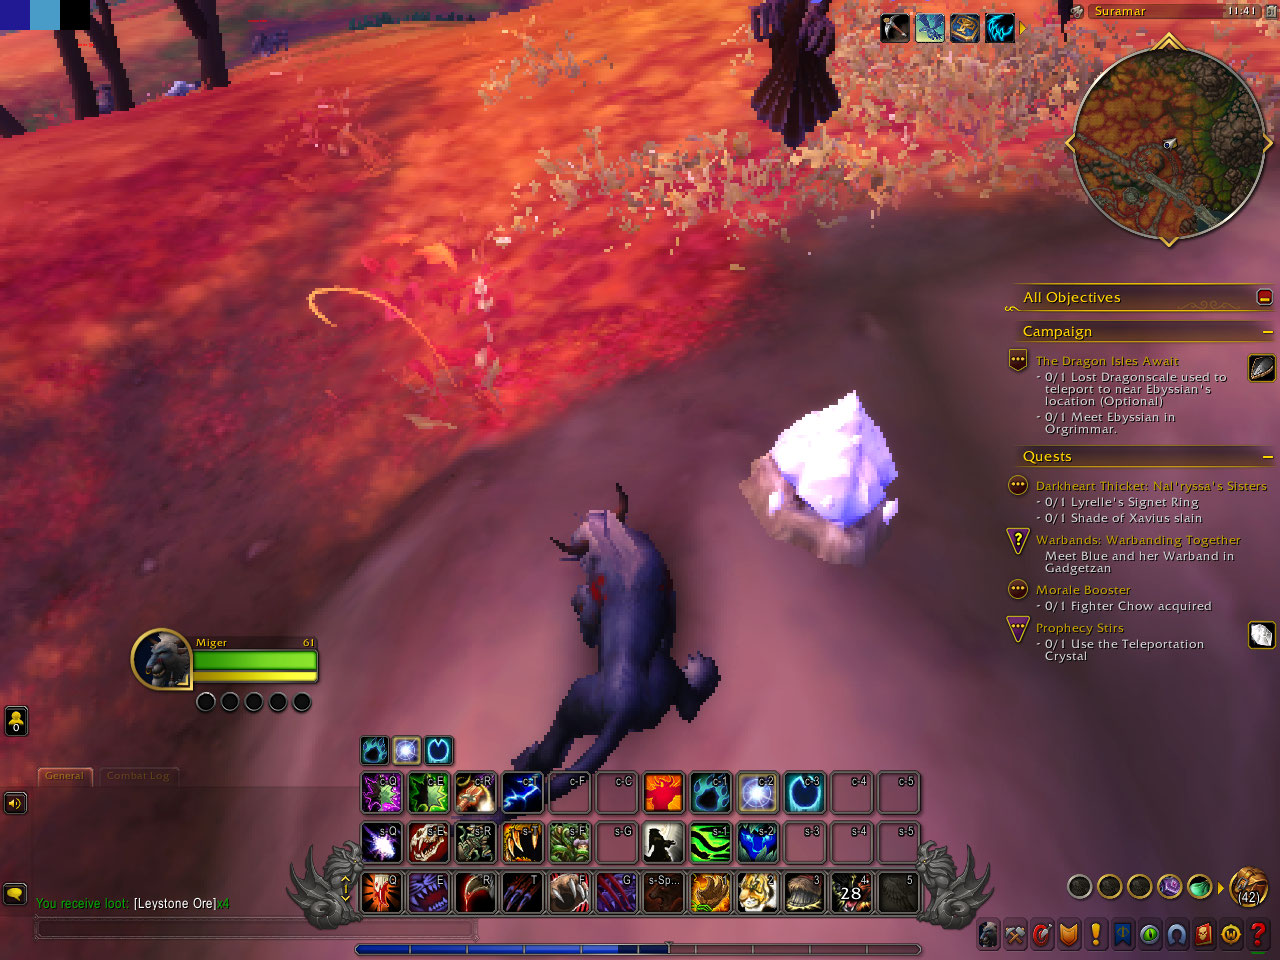ore: (730, 386, 906, 568)
